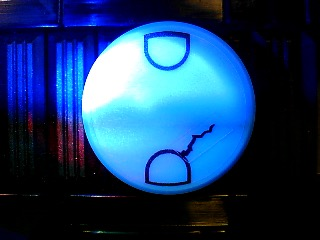CRACK: (81, 20, 256, 195)
